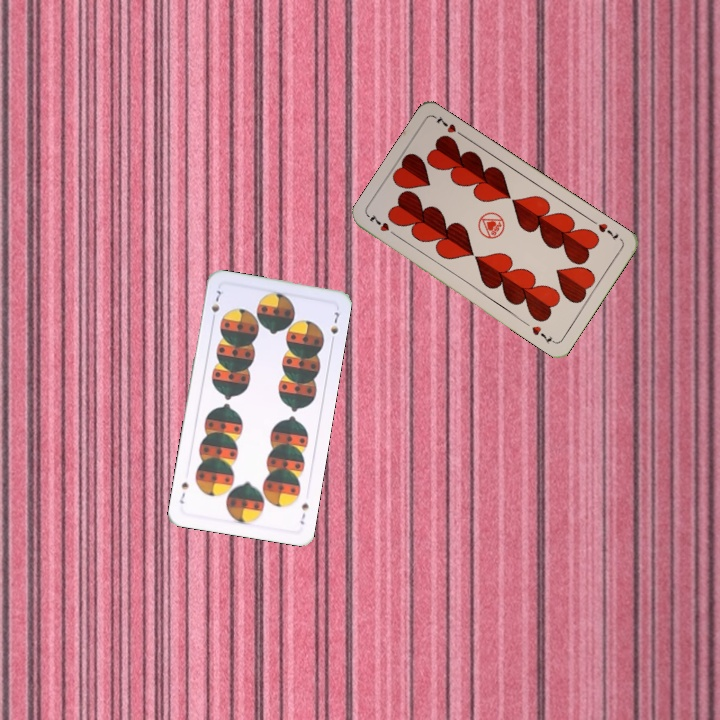H7: (365, 211, 400, 239), (587, 216, 621, 242)
S7: (207, 284, 226, 325), (296, 499, 311, 527)
